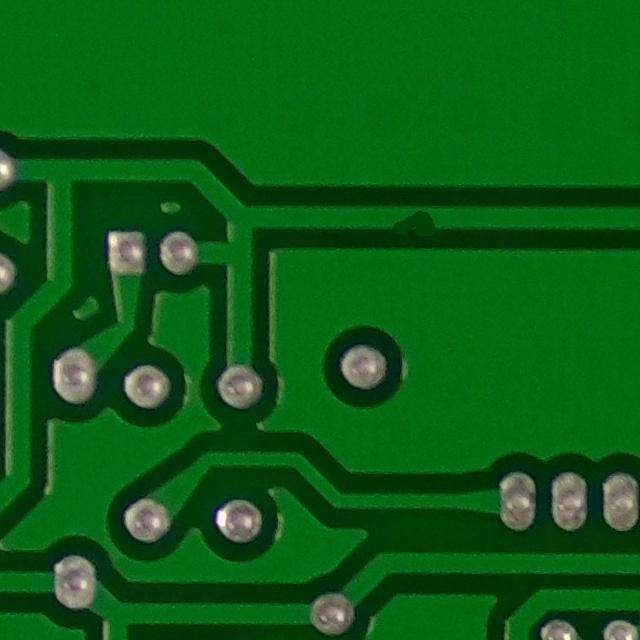mouse_bite: (371, 194, 447, 244)
